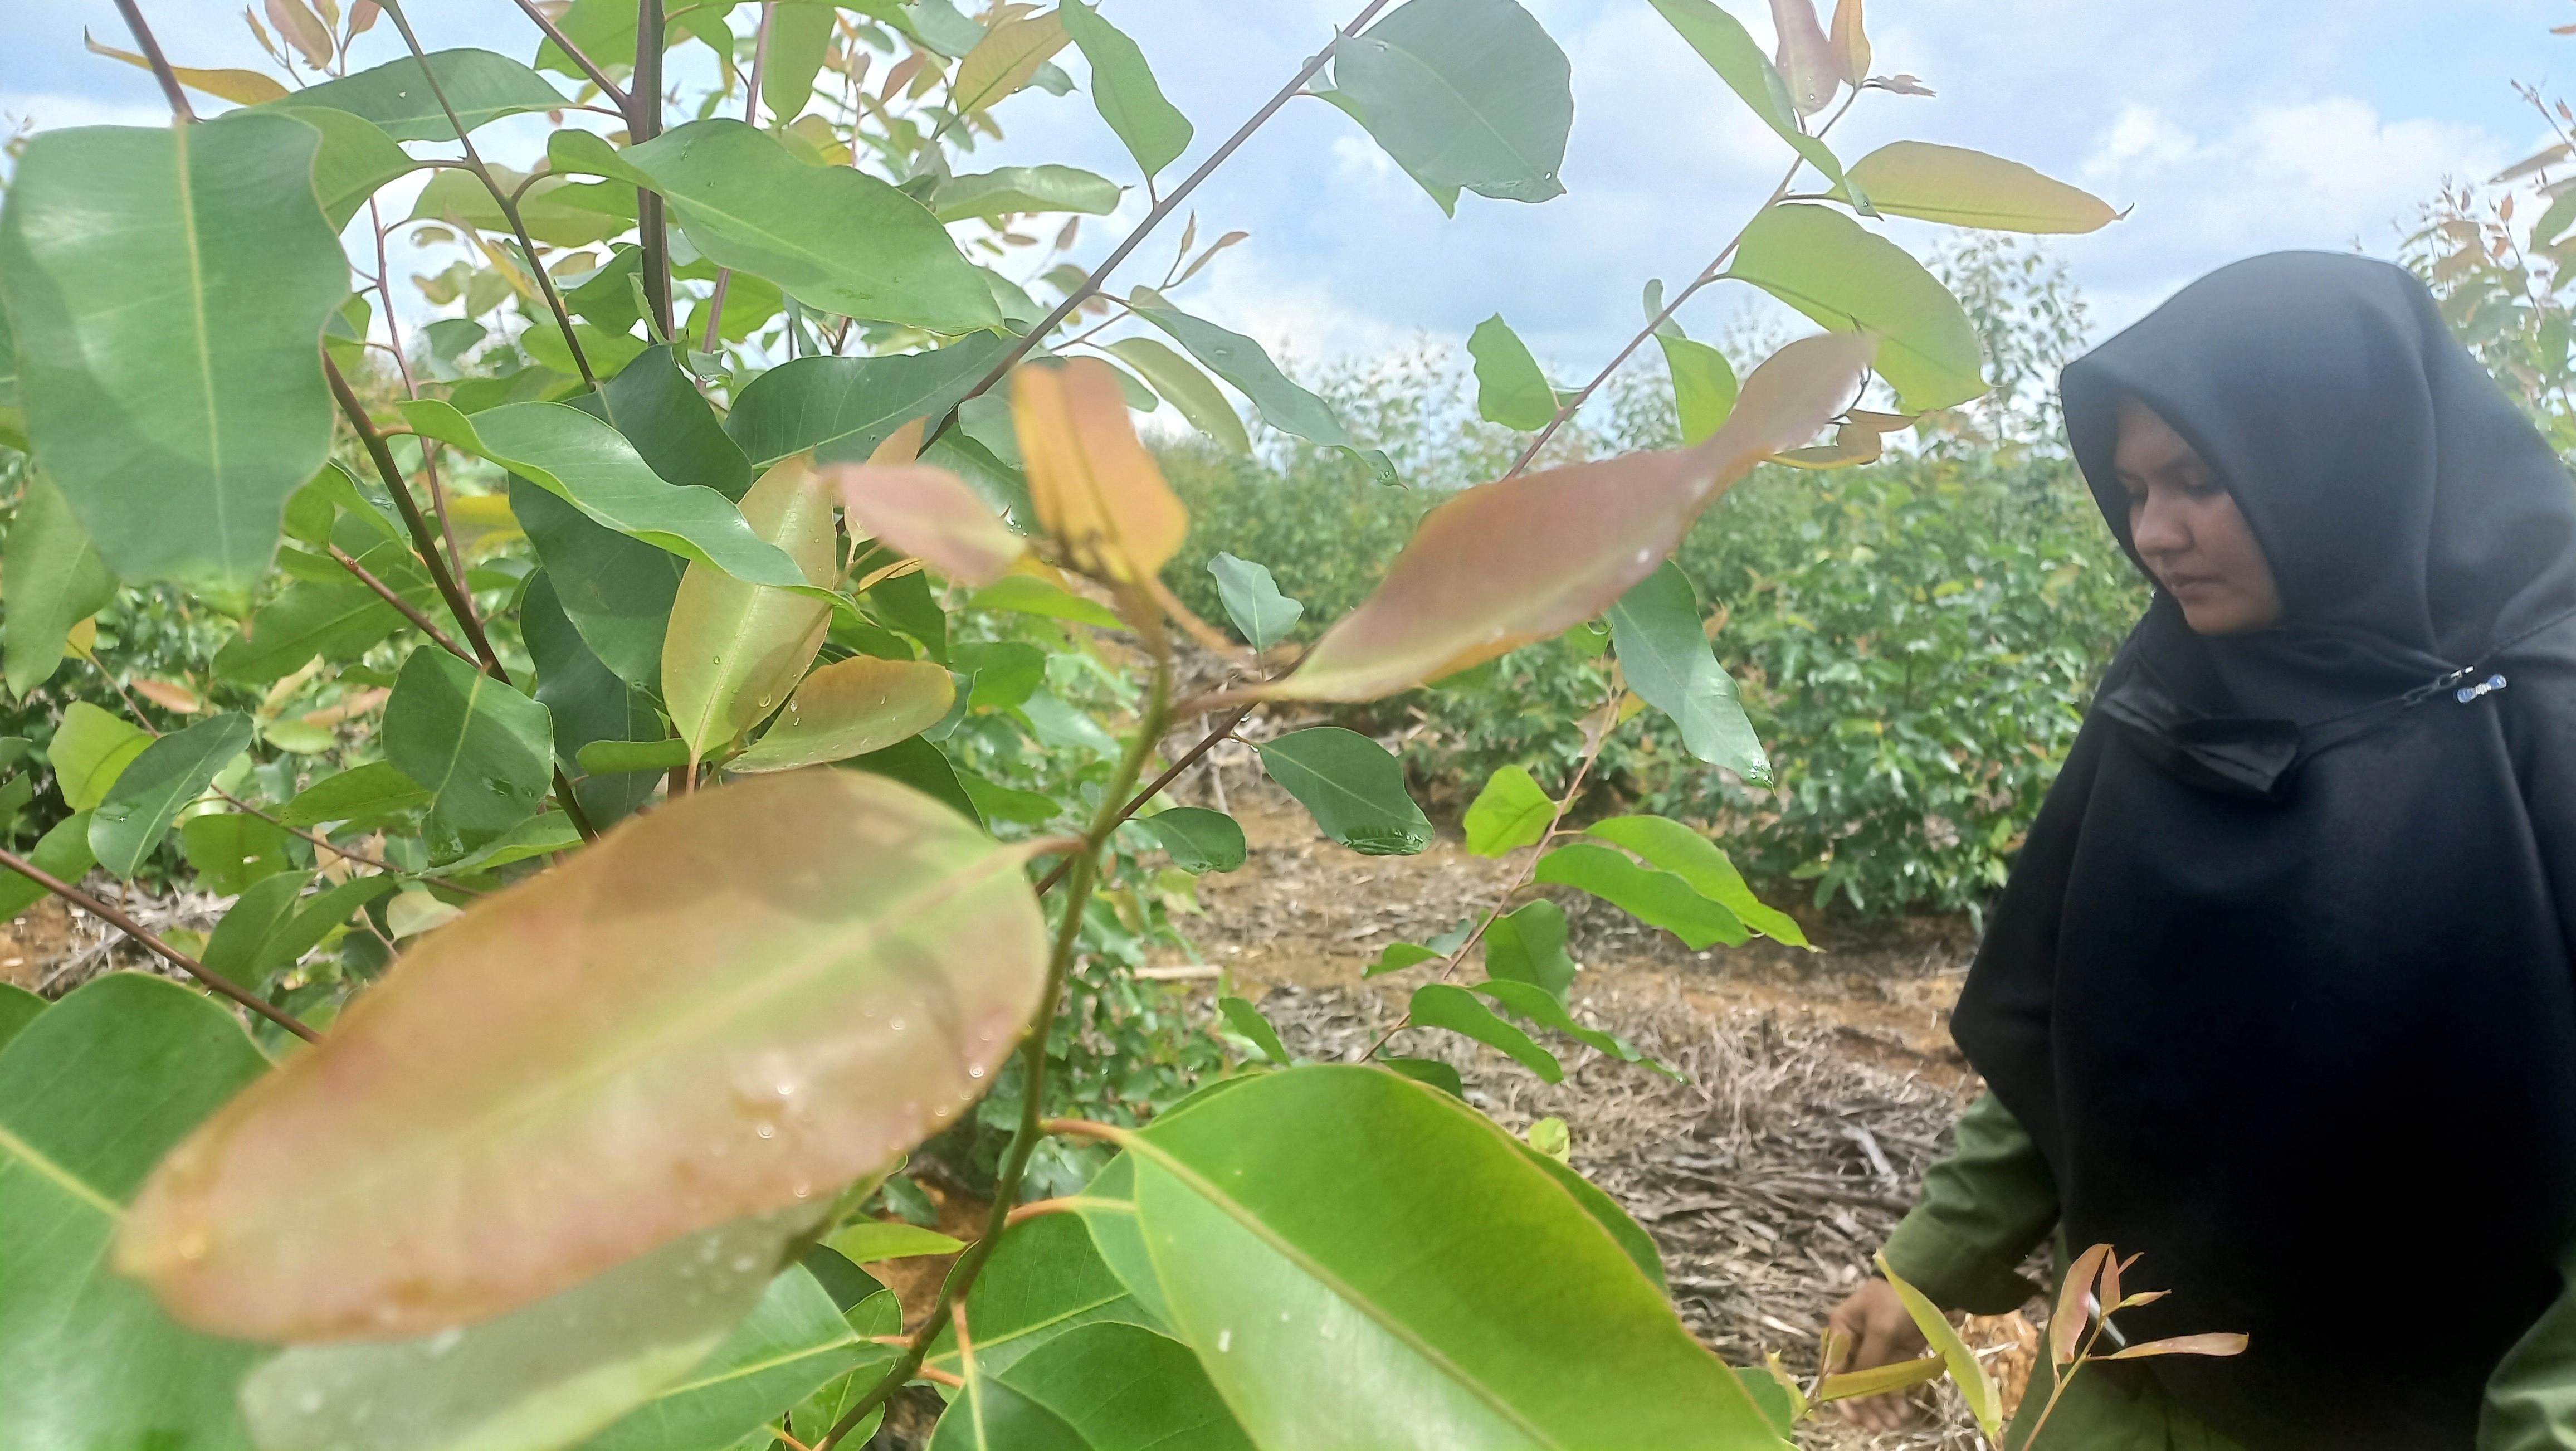Helopeltis-Withered Sprout: (1269, 329, 1877, 681), (1017, 359, 1192, 575), (823, 446, 1028, 591), (2047, 1232, 2254, 1373)
